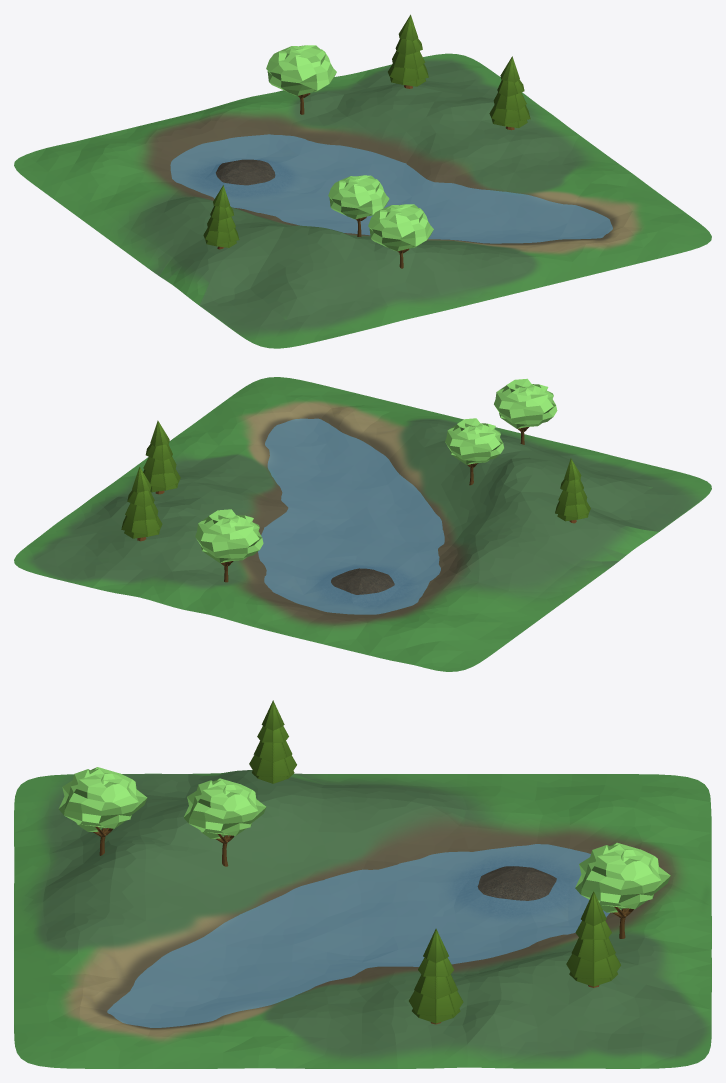
Rendered from worldthrees.glb.
3 renders of one model, top to bottom at view 1: azimuth 30°, elevation 25°; view 2: azimuth 150°, elevation 25°; view 3: azimuth 270°, elevation 25°, orthographic. The views are drawn at different scales.
Parts seen in each view (by area): view 1: ground, water, Leavedtree_TreeLeaves_0.002, Leavedtree_TreeLeaves_0.001, Leavedtree, Object_2, Object_2.002, Object_2.001; view 2: ground, water, Leavedtree_TreeLeaves_0.002, Leavedtree_TreeLeaves_0.001, Leavedtree, Object_2, Object_2.002, Object_2.001; view 3: ground, water, Leavedtree_TreeLeaves_0.002, Leavedtree_TreeLeaves_0.001, Leavedtree, Object_2, Object_2.002, Object_2.001.
Boxes of the visible parts, box(x1,y1,x2,y2) form: ground: box(14, 53, 711, 348); water: box(170, 134, 612, 243); Leavedtree_TreeLeaves_0.002: box(266, 45, 336, 95); Leavedtree_TreeLeaves_0.001: box(368, 204, 433, 251); Leavedtree: box(328, 175, 389, 237); Object_2: box(388, 14, 428, 88); Object_2.002: box(489, 56, 530, 130); Object_2.001: box(203, 185, 239, 249); ground: box(14, 377, 711, 671); water: box(258, 418, 444, 614); Leavedtree_TreeLeaves_0.002: box(195, 509, 263, 562); Leavedtree_TreeLeaves_0.001: box(494, 378, 557, 428); Leavedtree: box(445, 418, 503, 485); Object_2: box(121, 467, 162, 541); Object_2.002: box(143, 420, 180, 494); Object_2.001: box(555, 458, 590, 523); ground: box(14, 770, 711, 1068); water: box(107, 844, 609, 1027); Leavedtree_TreeLeaves_0.002: box(575, 842, 670, 912); Leavedtree_TreeLeaves_0.001: box(58, 767, 147, 831); Leavedtree: box(183, 778, 266, 866); Object_2: box(566, 891, 620, 987); Object_2.002: box(409, 928, 463, 1024); Object_2.001: box(249, 700, 296, 783).
Bounding box in the file's own units: 100 × 21.04 × 100.
11 materials, 4 textured.
